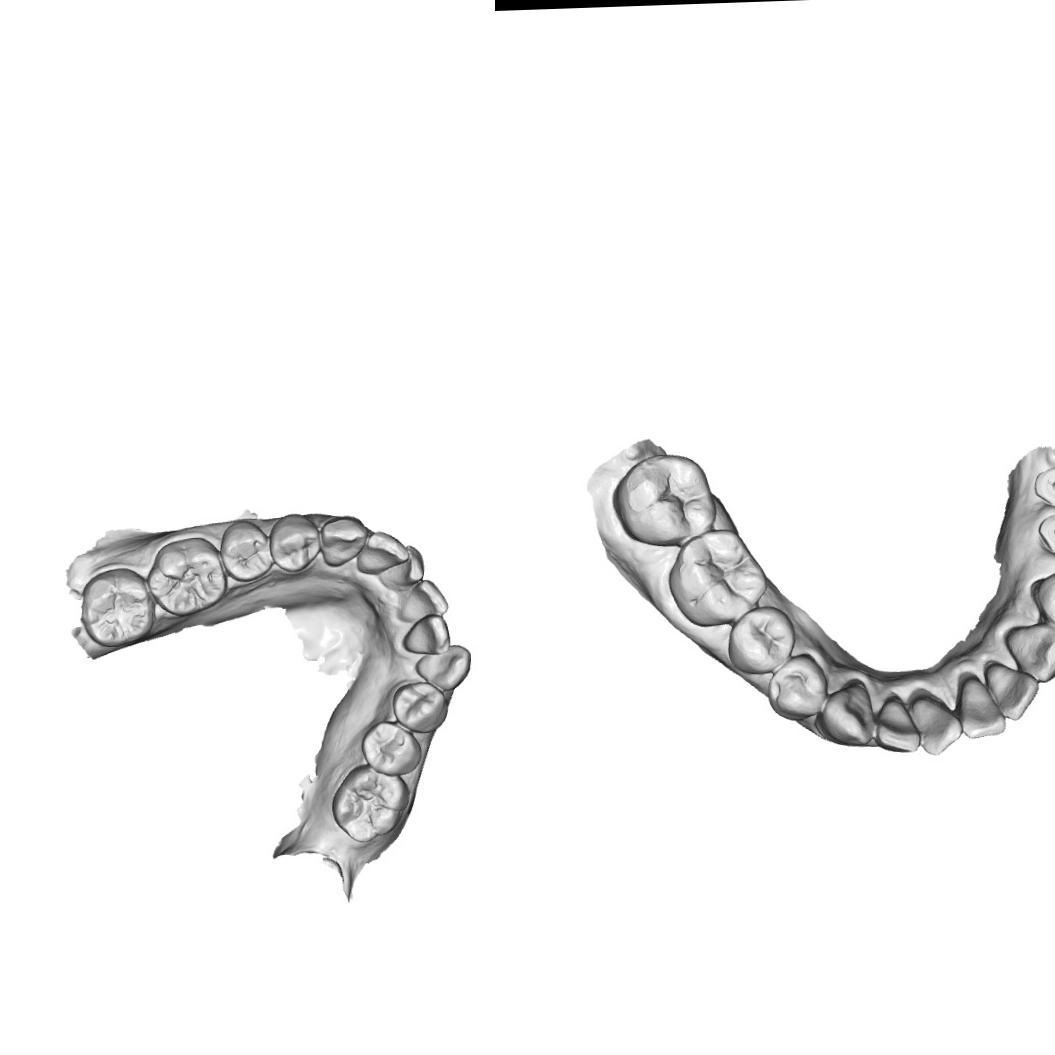canine: (818, 679, 878, 750), (1002, 620, 1055, 684), (413, 642, 472, 691), (319, 514, 369, 567)
implant: (1037, 511, 1055, 551)
implant_minus: (1036, 464, 1055, 506)
incisor: (908, 680, 963, 756), (952, 676, 1008, 741), (872, 692, 920, 758), (987, 664, 1039, 722), (402, 614, 452, 656), (360, 530, 408, 573), (402, 577, 450, 618), (387, 544, 426, 592)
molar: (668, 529, 770, 630), (610, 452, 717, 548), (329, 760, 412, 844), (146, 535, 229, 617), (78, 566, 156, 648)
premolar: (727, 605, 795, 673), (766, 652, 826, 720), (218, 518, 274, 584), (360, 720, 423, 778), (268, 512, 323, 574), (391, 680, 449, 734), (1032, 569, 1055, 631)
